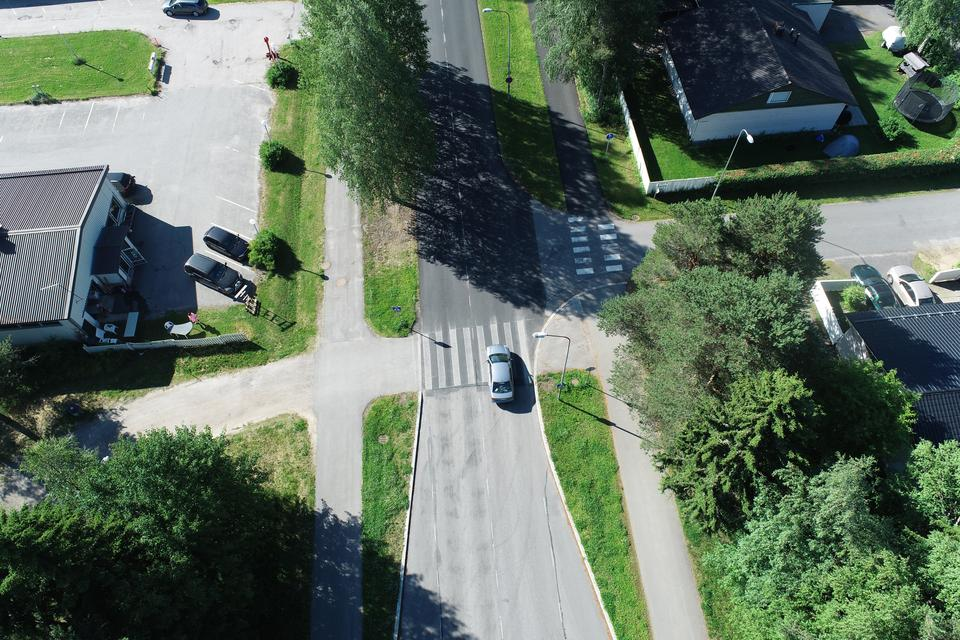intersection: (291, 196, 687, 417)
